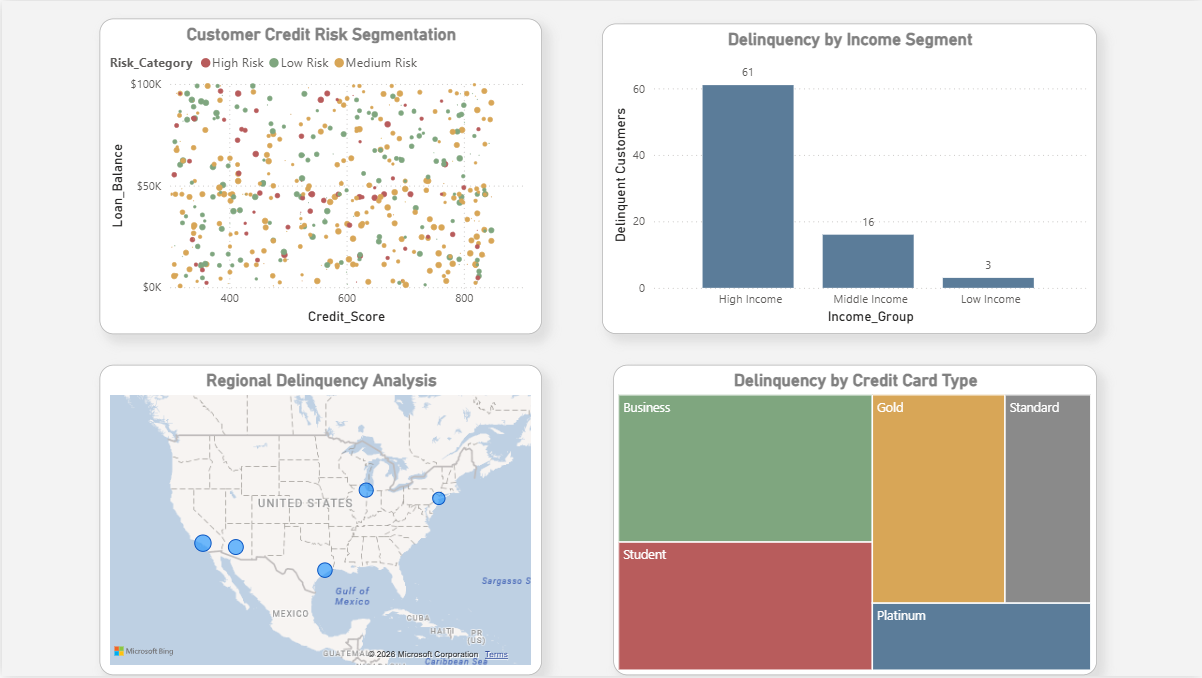

What the dashboard file says about the page in this screenshot:
{"tool":"powerbi","page":{"name":"Page 2","canvas":[1280,720],"ordinal":1},"visuals":[{"type":"scatterChart","title":"Customer Credit Risk Segmentation","fields":{"X":["Cleaned_Credit_Risk_Data.Credit_Score"],"Y":["Cleaned_Credit_Risk_Data.Loan_Balance"],"Series":["Cleaned_Credit_Risk_Data.Risk_Category"],"Size":["Avg(Cleaned_Credit_Risk_Data.Missed_Payments)"]},"box":[103.5,19.3,471.9,336.8],"z":0},{"type":"clusteredColumnChart","title":"Delinquency by Income Segment","fields":{"Category":["Cleaned_Credit_Risk_Data.Income_Group"],"Y":["Cleaned_Credit_Risk_Data.Delinquent Customers"]},"box":[640.4,24.6,528.1,331.6],"z":1000},{"type":"map","title":"Regional Delinquency Analysis","fields":{"Category":["Cleaned_Credit_Risk_Data.Location"],"Size":["Cleaned_Credit_Risk_Data.Delinquent Customers"]},"box":[103.5,387.7,471.9,331.6],"z":2000},{"type":"treemap","title":"Delinquency by Credit Card Type","fields":{"Group":["Cleaned_Credit_Risk_Data.Credit_Card_Type"],"Values":["Cleaned_Credit_Risk_Data.Delinquent Customers"]},"box":[652.6,387.7,515.8,331.6],"z":2001}]}

Visuals, with their boxes in screenshot pixels (x1, y1, x2, y2), scaled from the page's 1280x720 canvas onto the 1202x678 screenshot:
"Customer Credit Risk Segmentation" scatterChart: rect(97, 18, 540, 335)
"Delinquency by Income Segment" clusteredColumnChart: rect(601, 23, 1097, 335)
"Regional Delinquency Analysis" map: rect(97, 365, 540, 677)
"Delinquency by Credit Card Type" treemap: rect(613, 365, 1097, 677)
